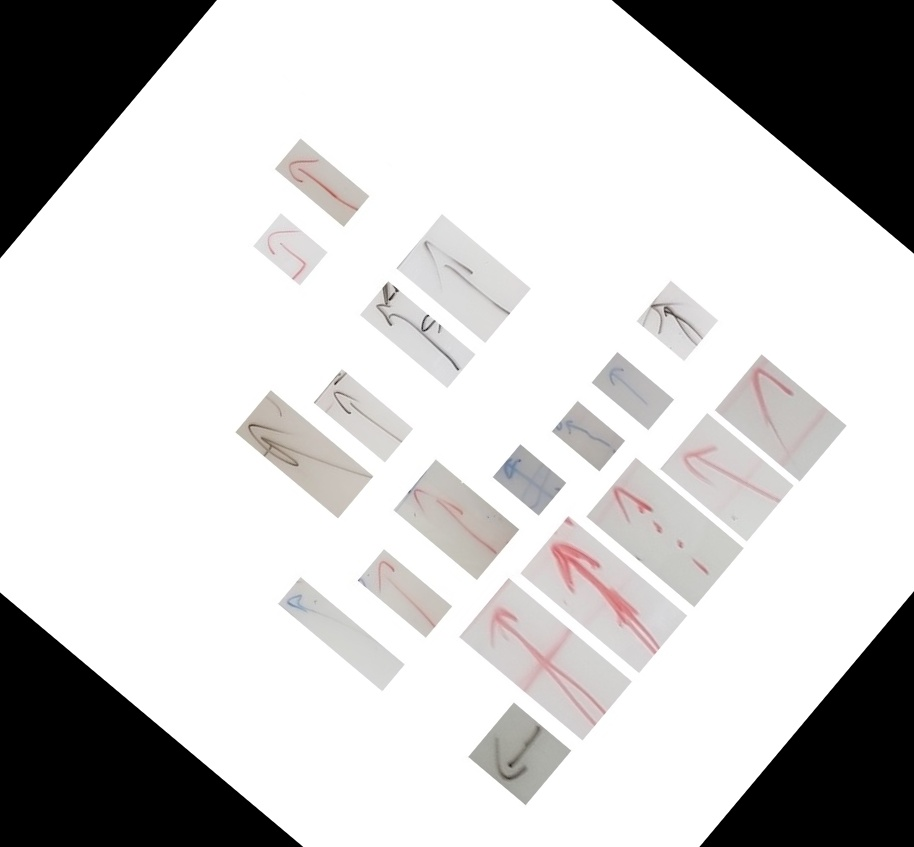arrow: (625, 391, 749, 505), (400, 647, 521, 749), (379, 738, 492, 843), (549, 315, 639, 399), (466, 582, 557, 659), (171, 448, 258, 520), (337, 283, 418, 350), (527, 524, 607, 591), (293, 337, 370, 401), (332, 520, 408, 584), (168, 249, 241, 315), (604, 480, 677, 542), (288, 602, 355, 658), (423, 475, 466, 552), (250, 427, 310, 478), (209, 193, 267, 242), (209, 628, 261, 672), (524, 403, 574, 445), (484, 454, 528, 491)
